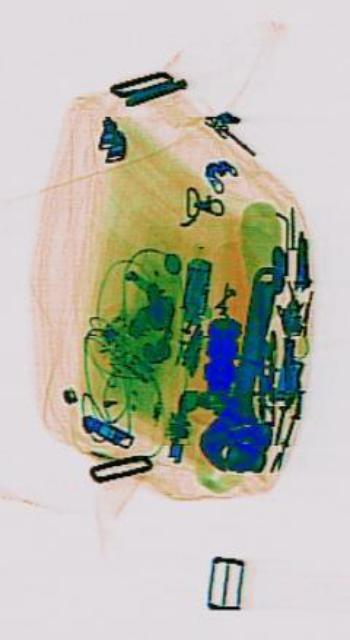Wrench: (194, 246, 293, 487)
